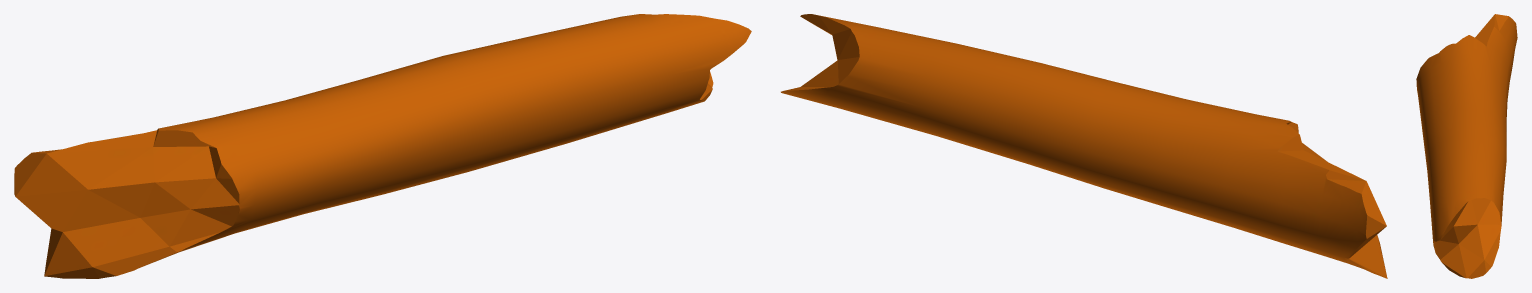
Rendered from arm.fbx.
3 renders of one model, left to right at view 1: azimuth 30°, elevation 25°; view 2: azimuth 150°, elevation 25°; view 3: azimuth 270°, elevation 25°, orthographic. The views are drawn at different scales.
Parts seen in each view (by area): view 1: arm_Baked; view 2: arm_Baked; view 3: arm_Baked.
Boxes of the visible parts, x1=… form: arm_Baked: x1=14, y1=14, x2=751, y2=278; arm_Baked: x1=781, y1=14, x2=1387, y2=278; arm_Baked: x1=1416, y1=14, x2=1517, y2=278.
Size of the model in its own units: 158 by 28.08 by 29.62.
1 material, 1 textured.
